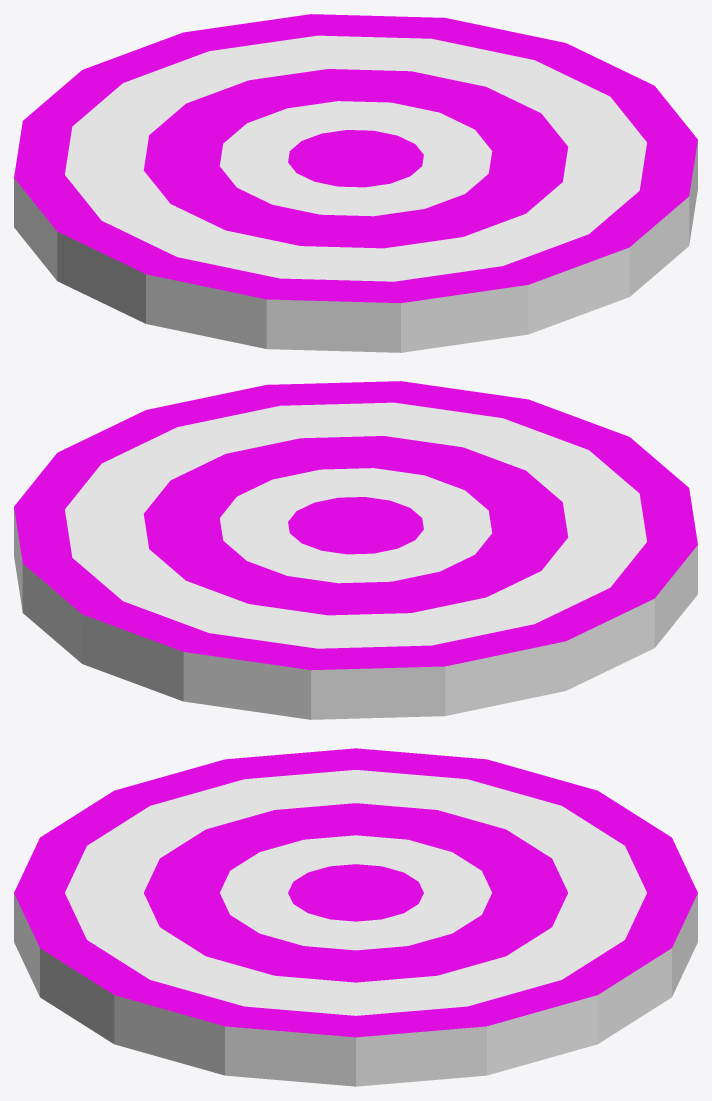
File: targer.fbx
3 views of the same model, one above another, from view 1: azimuth 30°, elevation 25°; view 2: azimuth 150°, elevation 25°; view 3: azimuth 270°, elevation 25° (orthographic).
Parts seen in each view (by area): view 1: Target; view 2: Target; view 3: Target.
Boxes of the visible parts, x1,y1,x2,y2 form: Target: (14, 14, 697, 352); Target: (14, 381, 697, 719); Target: (14, 748, 697, 1086).
Bounding box in the file's own units: 200 × 15.89 × 200.
